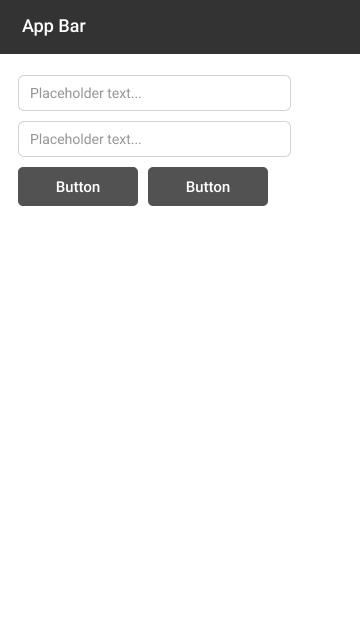button: (16, 165, 139, 208), (148, 164, 270, 207)
editText: (16, 118, 293, 159), (16, 73, 292, 113)
toolbar: (1, 1, 359, 54)
